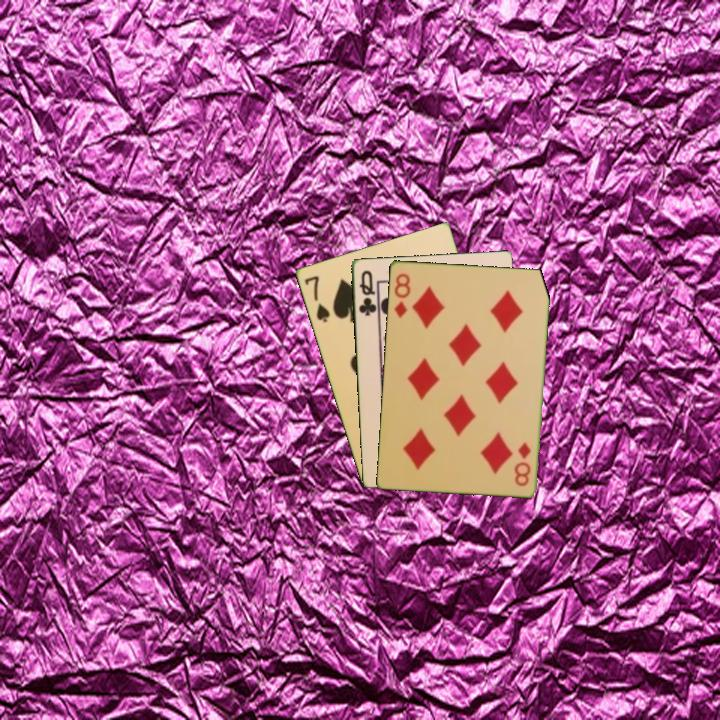7s: (301, 272, 332, 325)
8d: (390, 269, 413, 321), (511, 438, 533, 489)
Qc: (355, 266, 379, 319)
